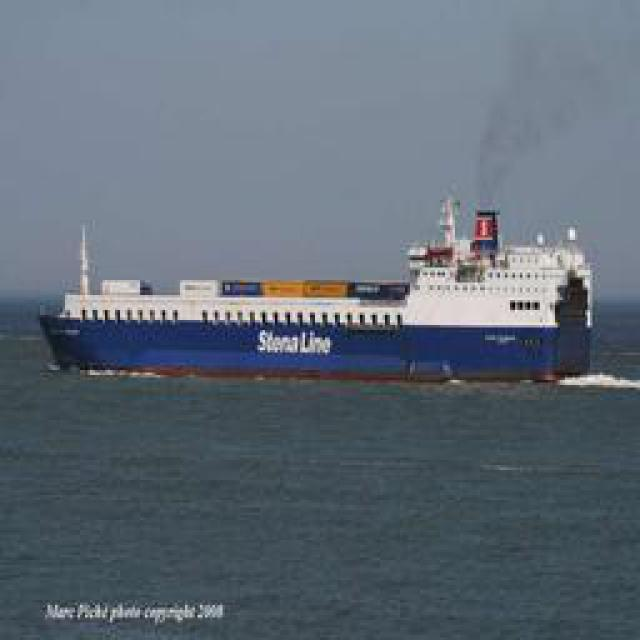Ship: (41, 187, 589, 385)
